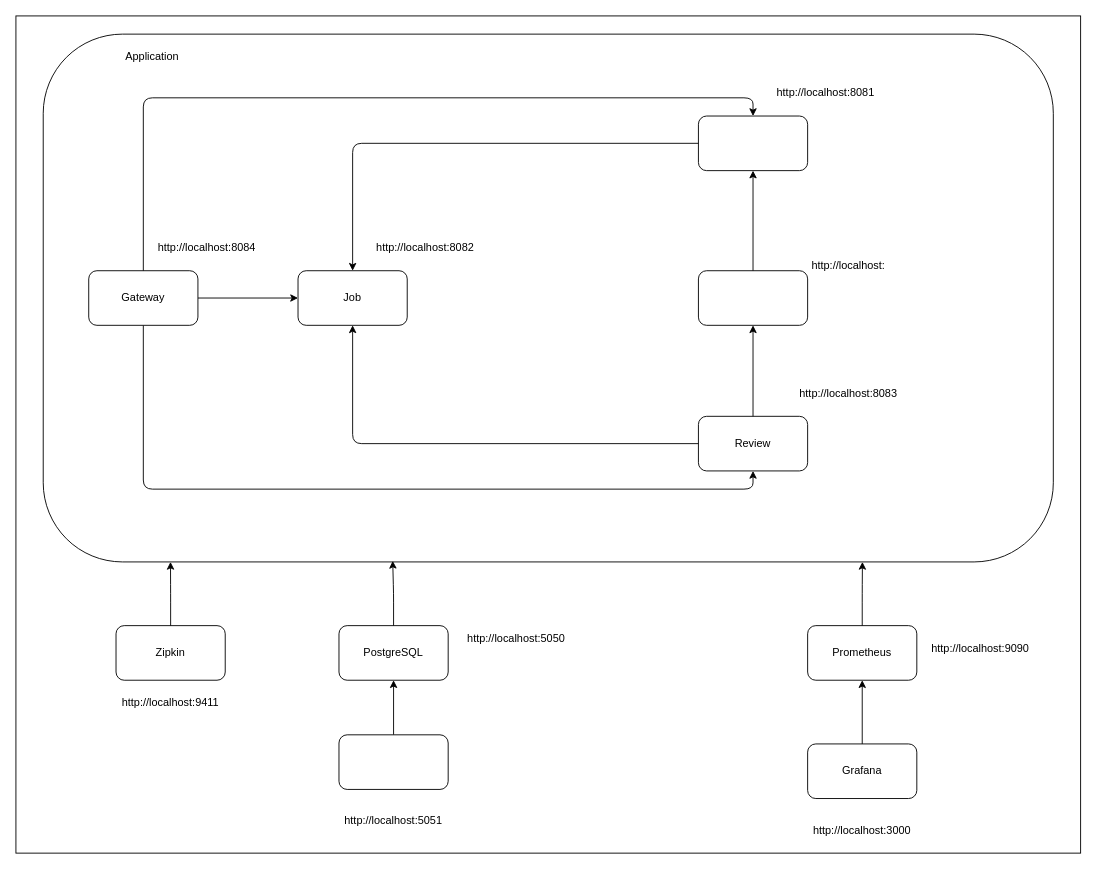
Image size: 1097x869. Some labels were removed from this diagram. The centre of each missing label's shape, as x and y in pixels:
Company: pixel 753 143
PGAdmin: pixel 393 761
RabbitMQ: pixel 753 297
